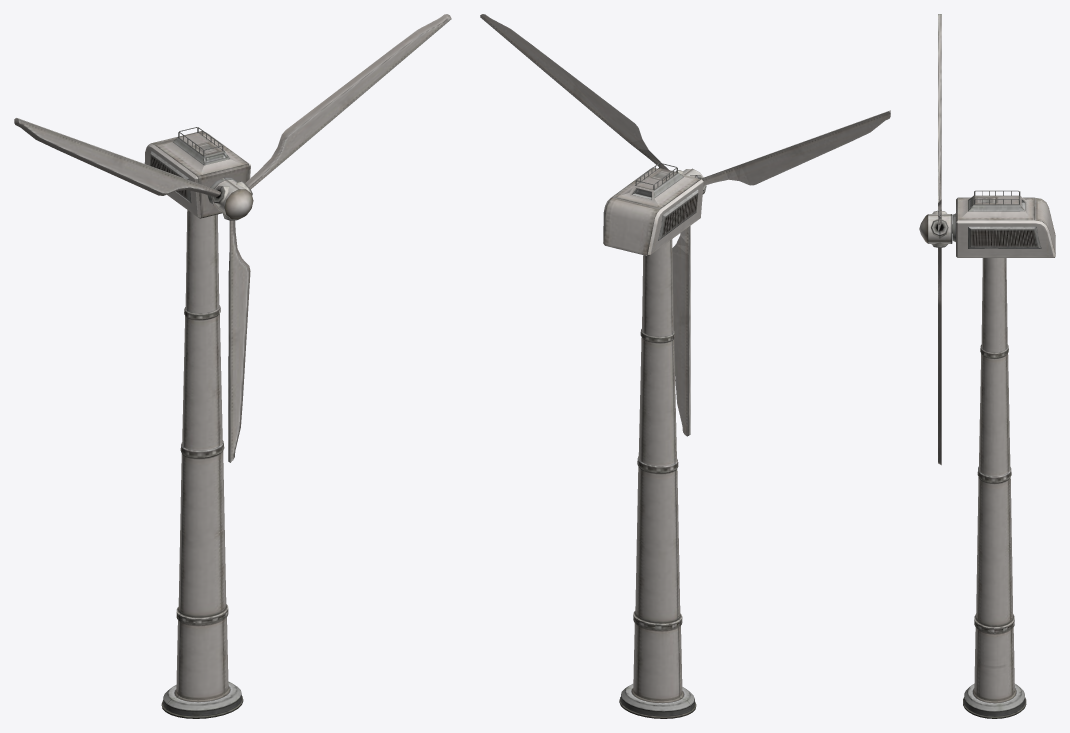
The model's file is windturbine128.obj.
3 views of the same model, side by side, from view 1: azimuth 30°, elevation 25°; view 2: azimuth 150°, elevation 25°; view 3: azimuth 270°, elevation 25° (orthographic). The views are drawn at different scales.
Parts seen in each view (by area): view 1: Turbine_Main, Turbine_Fan; view 2: Turbine_Main, Turbine_Fan; view 3: Turbine_Main, Turbine_Fan.
Part boxes in pixels (bbox=[...]): Turbine_Main: bbox=[144, 127, 250, 718]; Turbine_Fan: bbox=[14, 14, 451, 462]; Turbine_Main: bbox=[603, 163, 703, 718]; Turbine_Fan: bbox=[480, 14, 890, 436]; Turbine_Main: bbox=[952, 190, 1055, 718]; Turbine_Fan: bbox=[919, 14, 952, 465].
Size of the model in its own units: 222 by 321 by 66.96.
2 materials, 2 textured.
